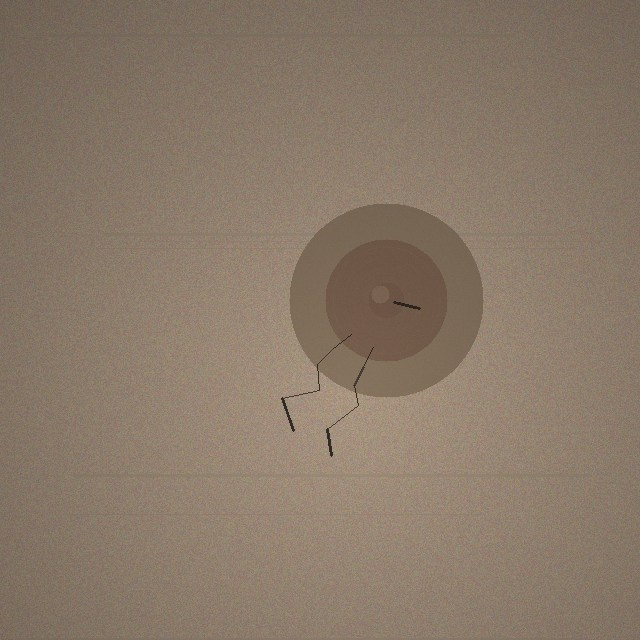crack: (289, 203, 483, 397)
